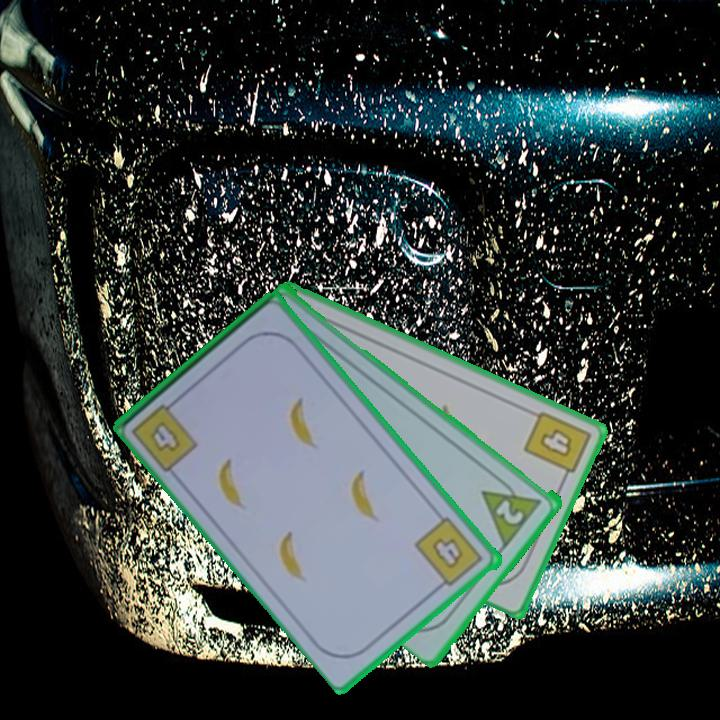2p: (492, 495, 527, 528)
4b: (411, 513, 487, 594), (520, 407, 594, 486), (147, 417, 184, 455)
